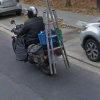Motorcycle: (5, 16, 71, 79)
